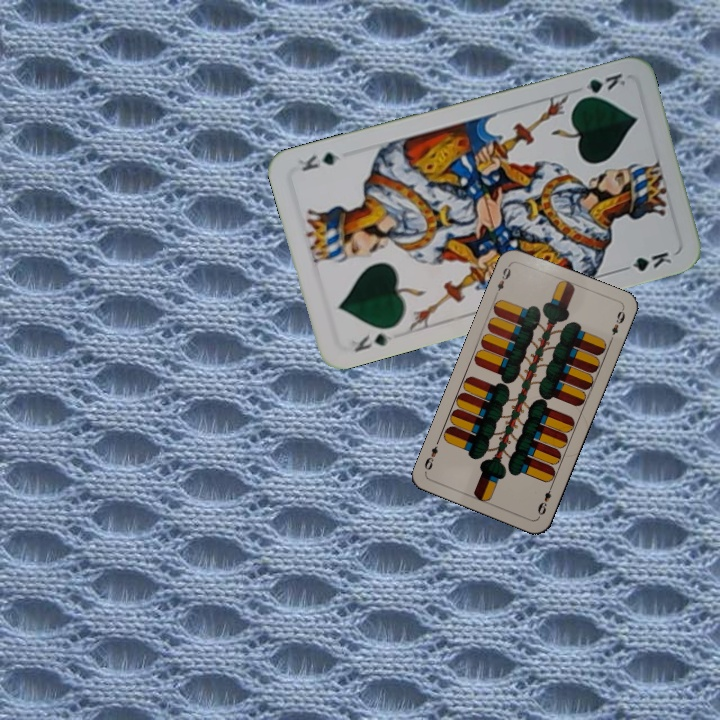E9: (533, 481, 556, 520), (491, 260, 514, 299)
GK: (574, 69, 628, 103), (350, 329, 395, 355)
